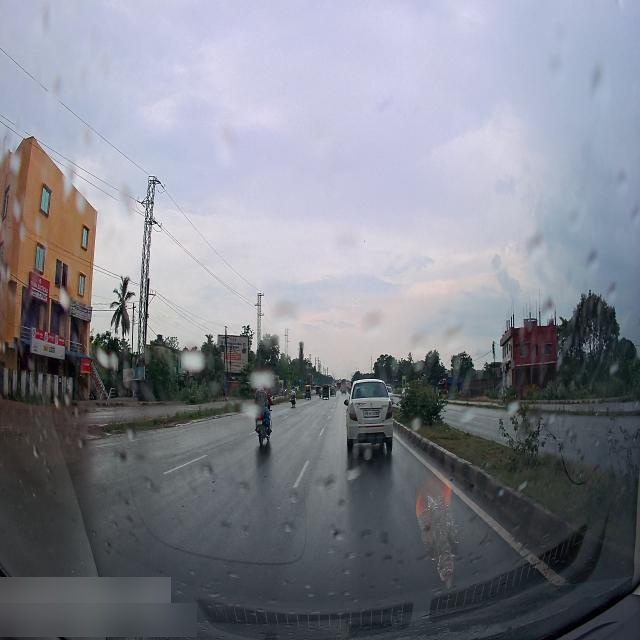pothole: (84, 417, 118, 440)
